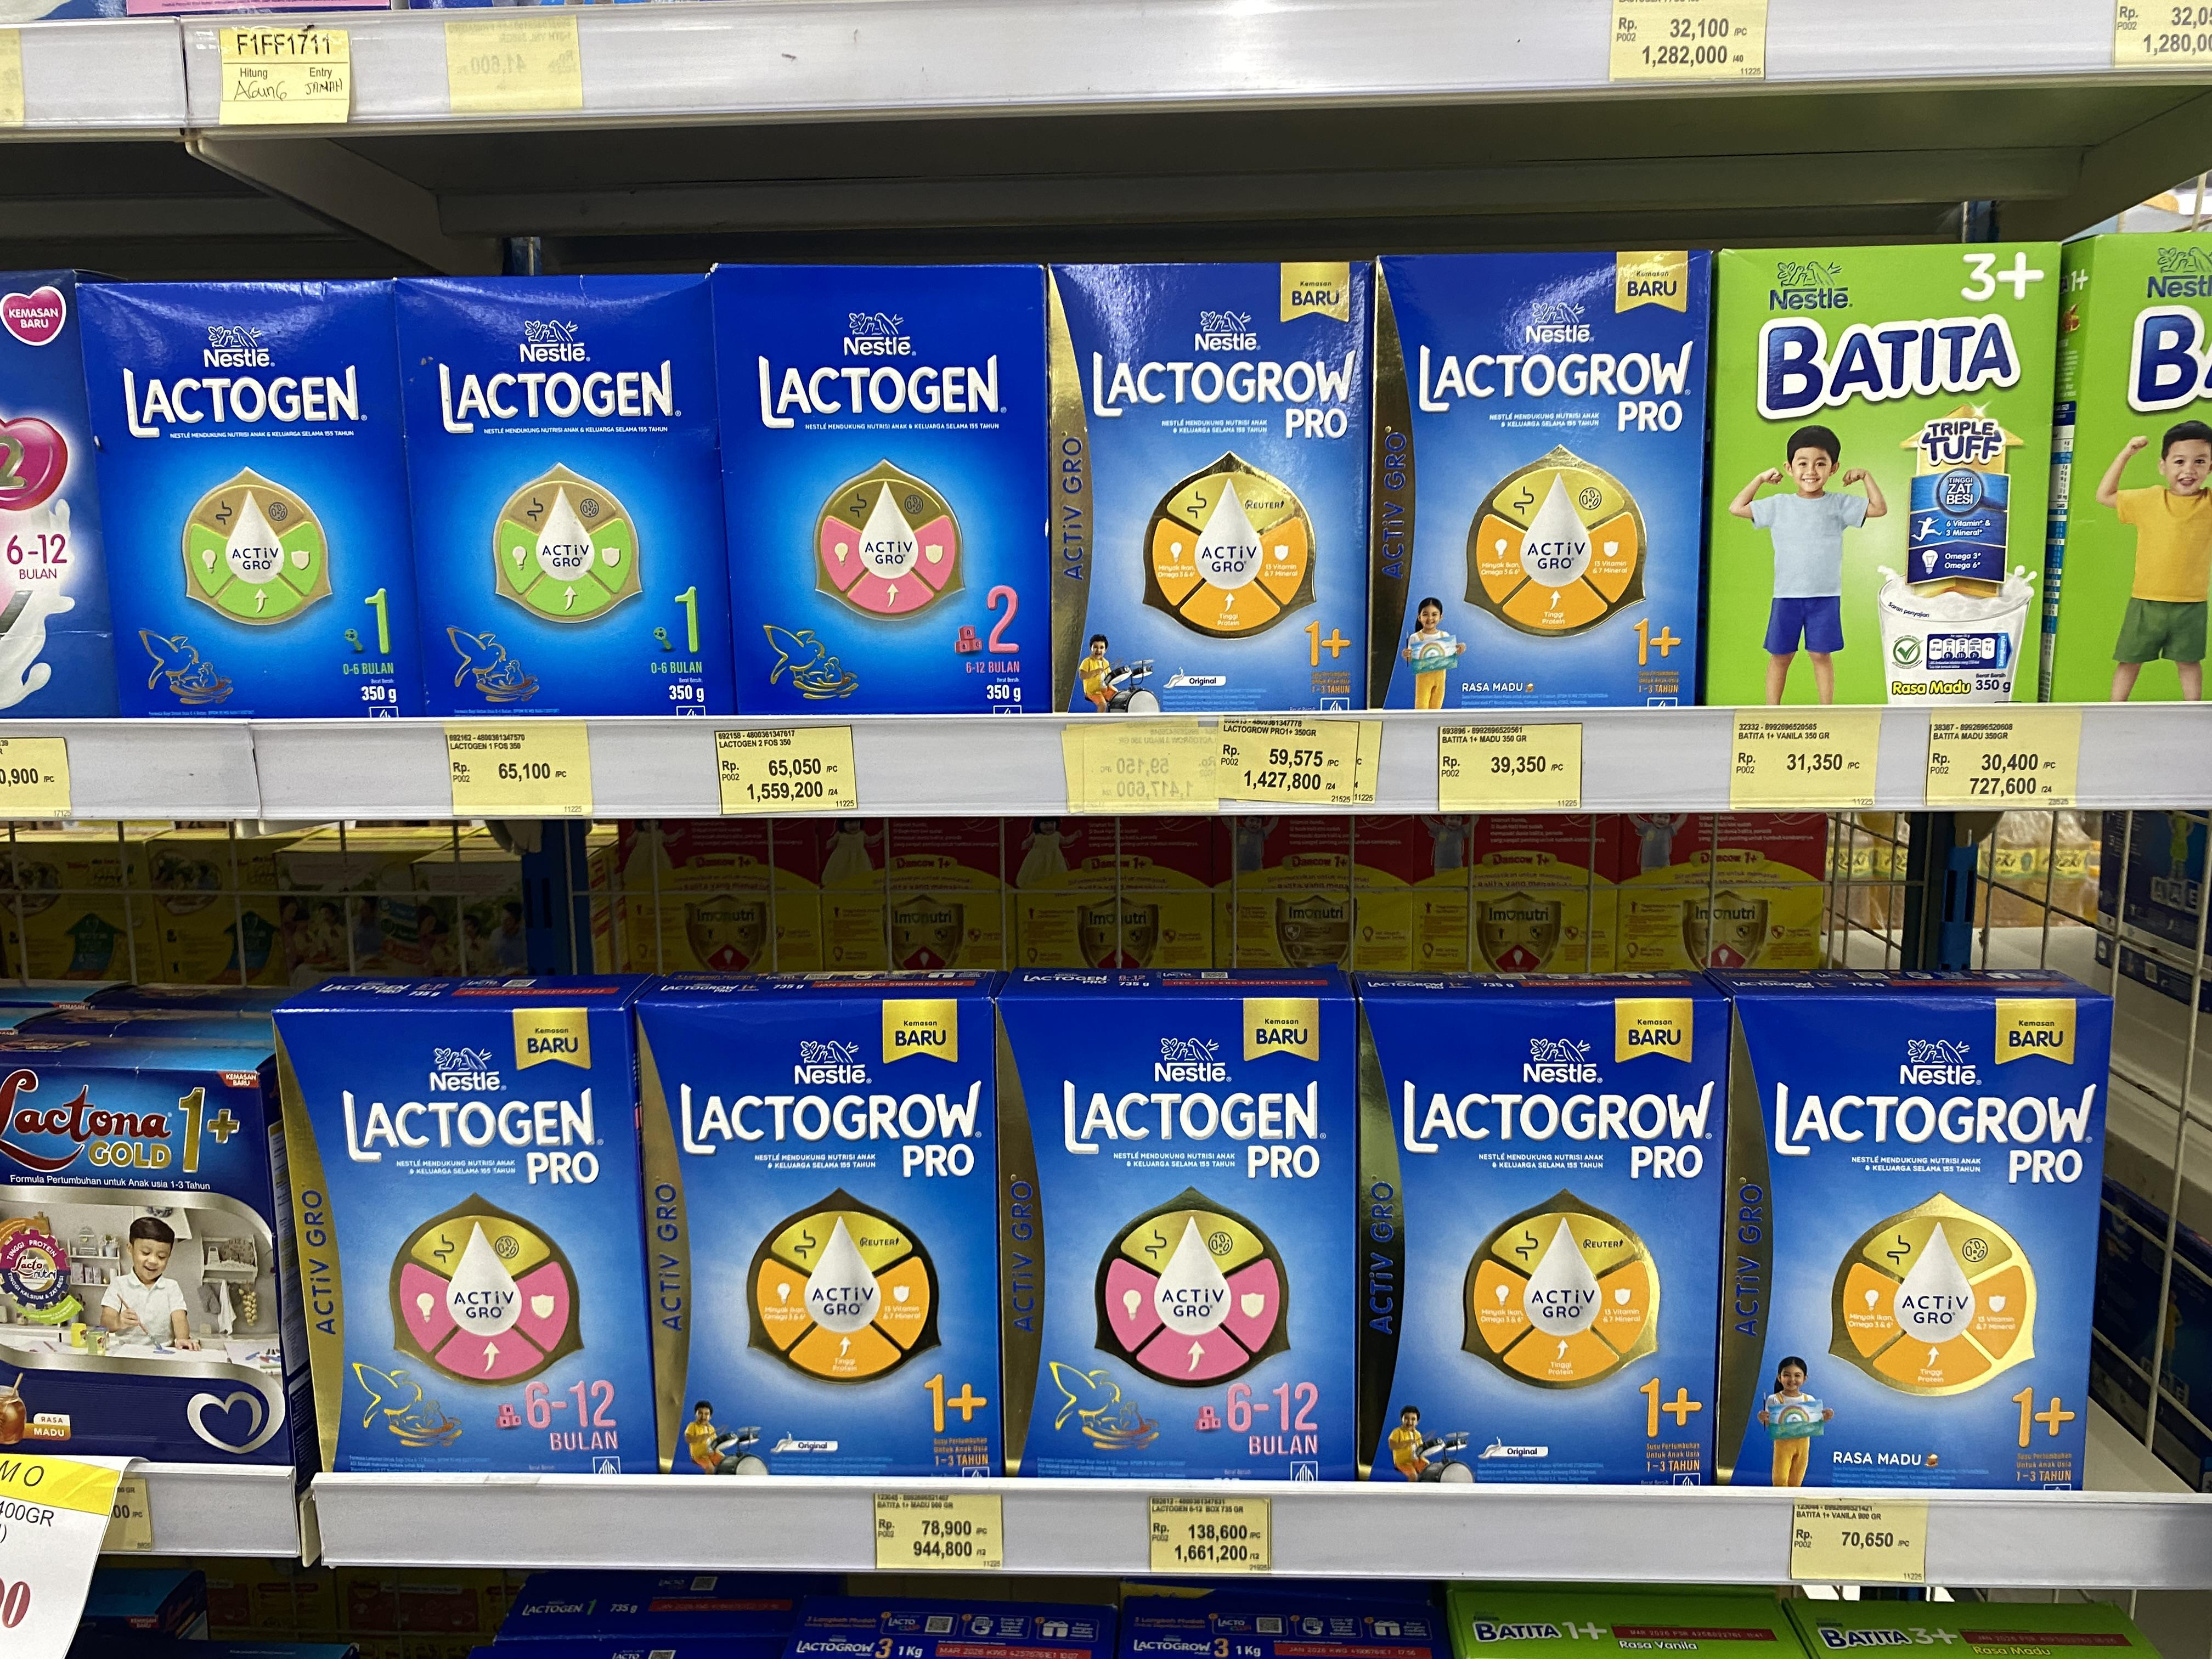LACTOGEN 1 Happynutri 24x350g N1 ID_REDESIGN2: (418, 343, 725, 713), (111, 356, 413, 716)
